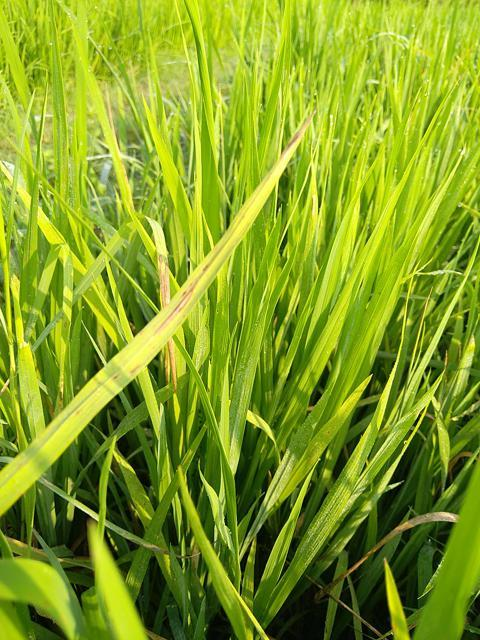Leaf Blight: (165, 339, 183, 393), (158, 249, 171, 308)
Leaf Streak: (52, 115, 312, 435)
